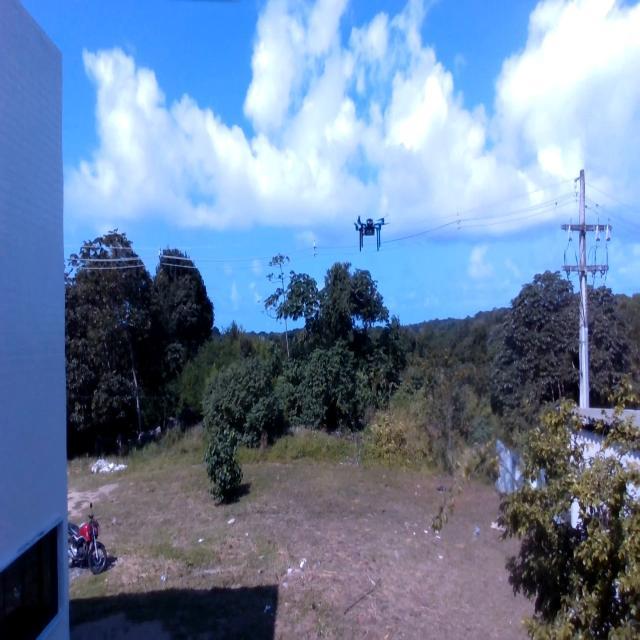-uav-: (352, 209, 390, 256)
